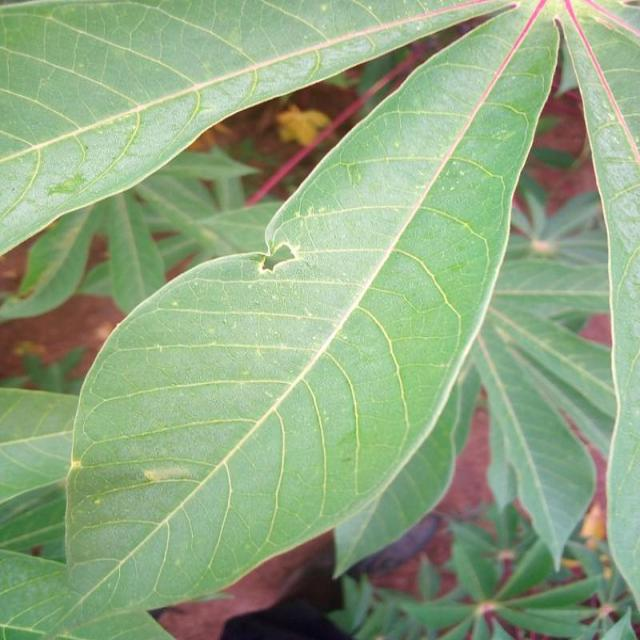cassava leaf: (60, 1, 562, 626)
